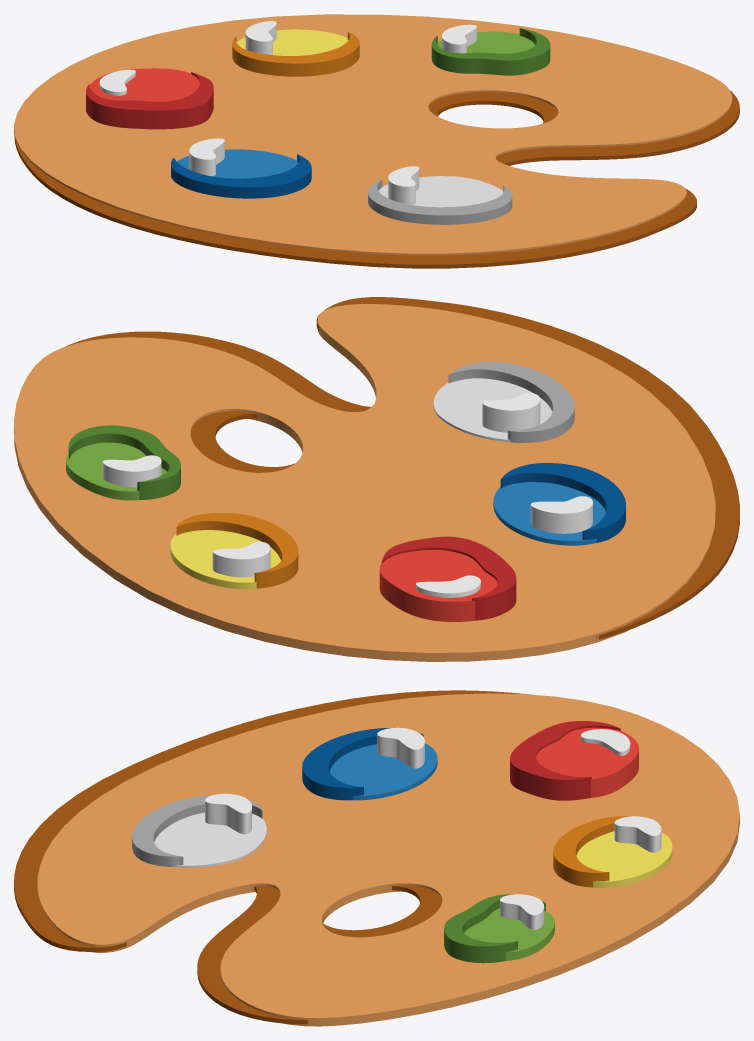
The model's file is emoji_u1f3a8.glb.
The picture shows the model from 3 angles, top to bottom: view 1: azimuth 30°, elevation 25°; view 2: azimuth 150°, elevation 25°; view 3: azimuth 270°, elevation 25°; orthographic projection. The views are drawn at different scales.
Parts seen in each view (by area): view 1: emoji_u1f3a8; view 2: emoji_u1f3a8; view 3: emoji_u1f3a8.
Boxes of the visible parts, bbox=[...] form: emoji_u1f3a8: bbox=[14, 14, 739, 268]; emoji_u1f3a8: bbox=[14, 297, 739, 661]; emoji_u1f3a8: bbox=[14, 690, 739, 1026].
Size of the model in its own units: 0.0339 by 0.0026 by 0.0315.
